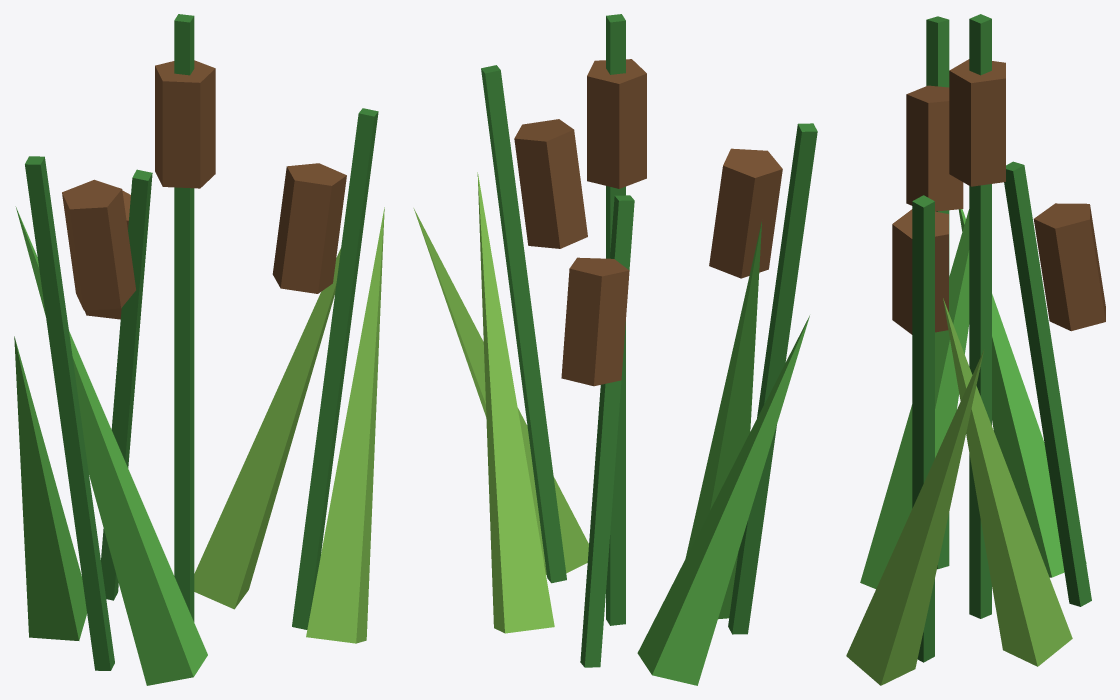
The model's file is taboa.glb.
3 views of the same model, side by side, from view 1: azimuth 30°, elevation 25°; view 2: azimuth 150°, elevation 25°; view 3: azimuth 270°, elevation 25° (orthographic). The views are drawn at different scales.
Parts seen in each view (by area): view 1: corpo; view 2: corpo; view 3: corpo.
Boxes of the visible parts, x1,y1,x2,y2 form: corpo: [14, 14, 384, 685]; corpo: [413, 14, 817, 685]; corpo: [846, 14, 1105, 685].
Bounding box in the file's own units: 0.3051 × 0.4669 × 0.1819.
